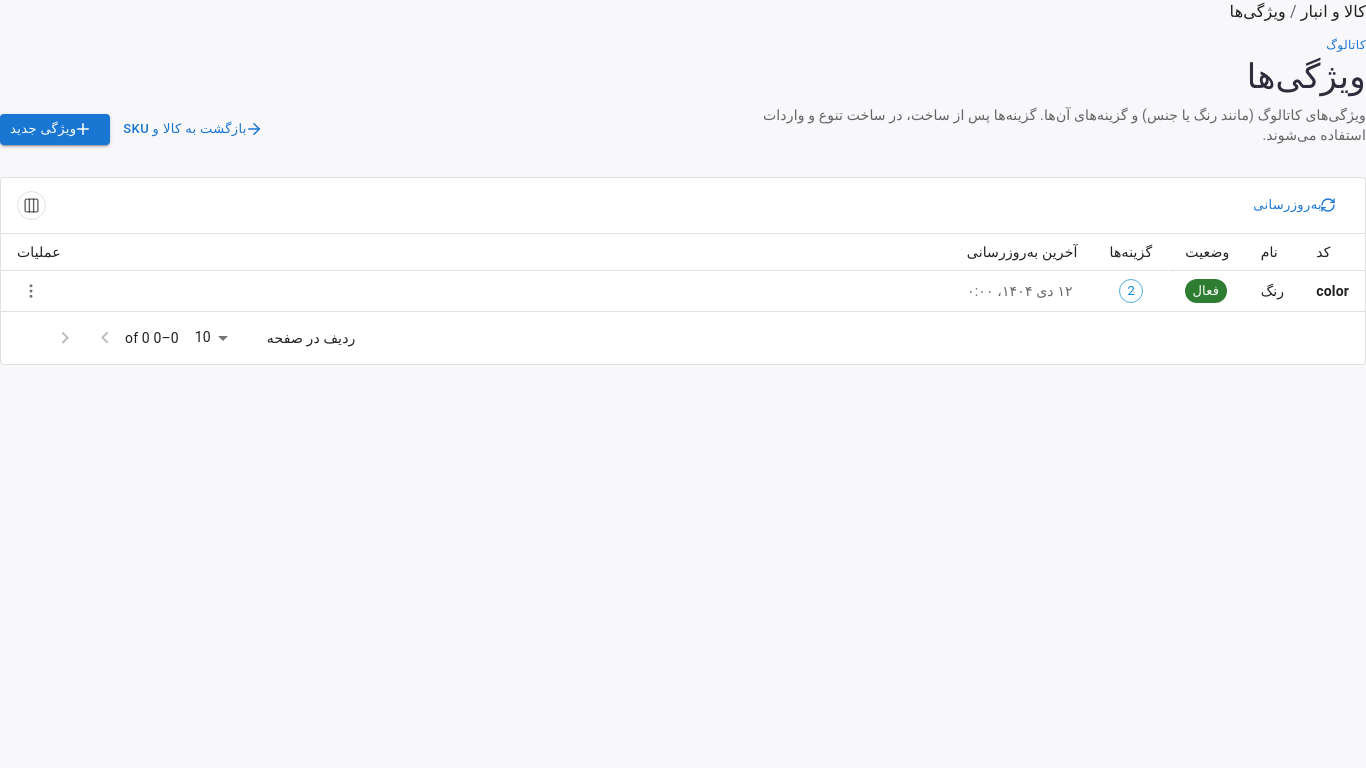
Test case: AttributesView › renders attributes and opens the create dialog
The width and height of the screenshot is (1366, 768).
Expected: the text "رنگ" is shown, [1261,281,1284,301]
Click the button "ویژگی جدید" at point(55, 130), box [0,114,110,145]
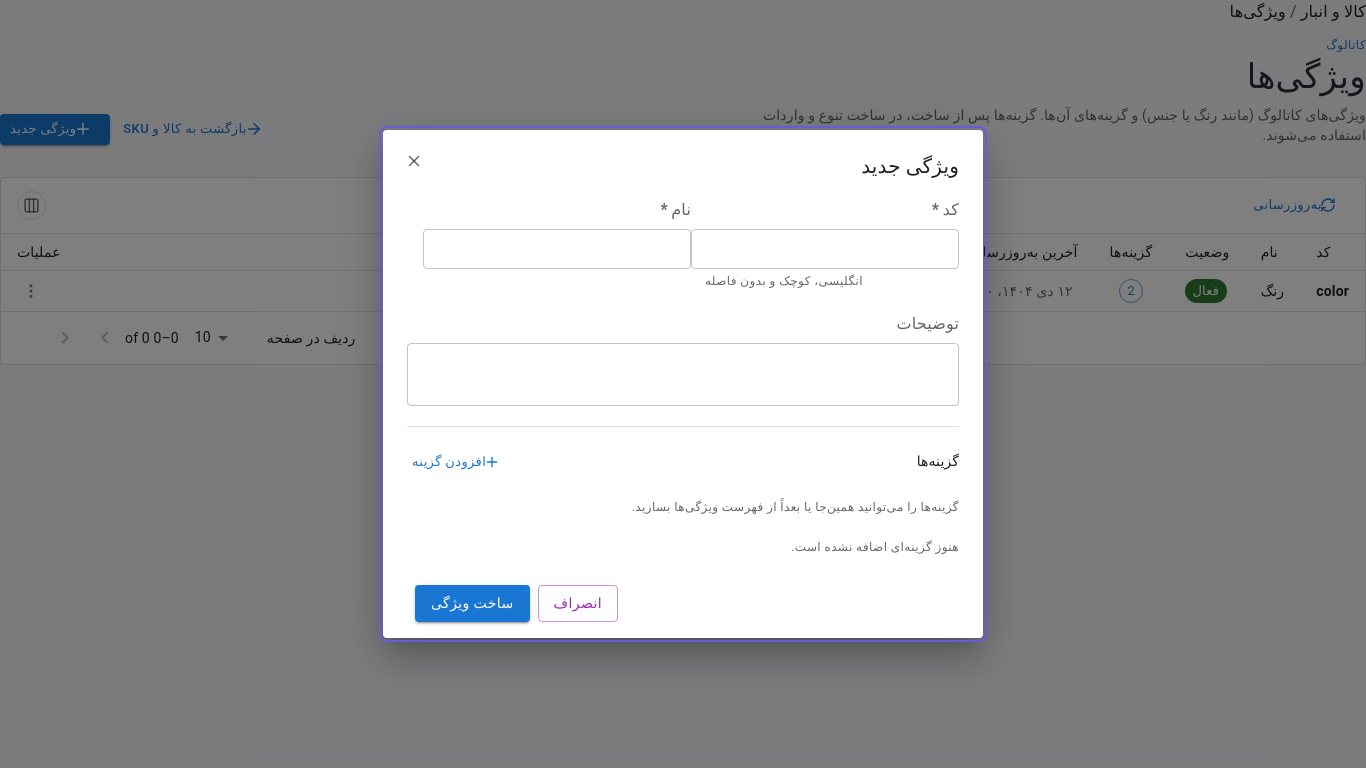
Expected: the dialog "ویژگی جدید" is shown, [383,130,983,638]
